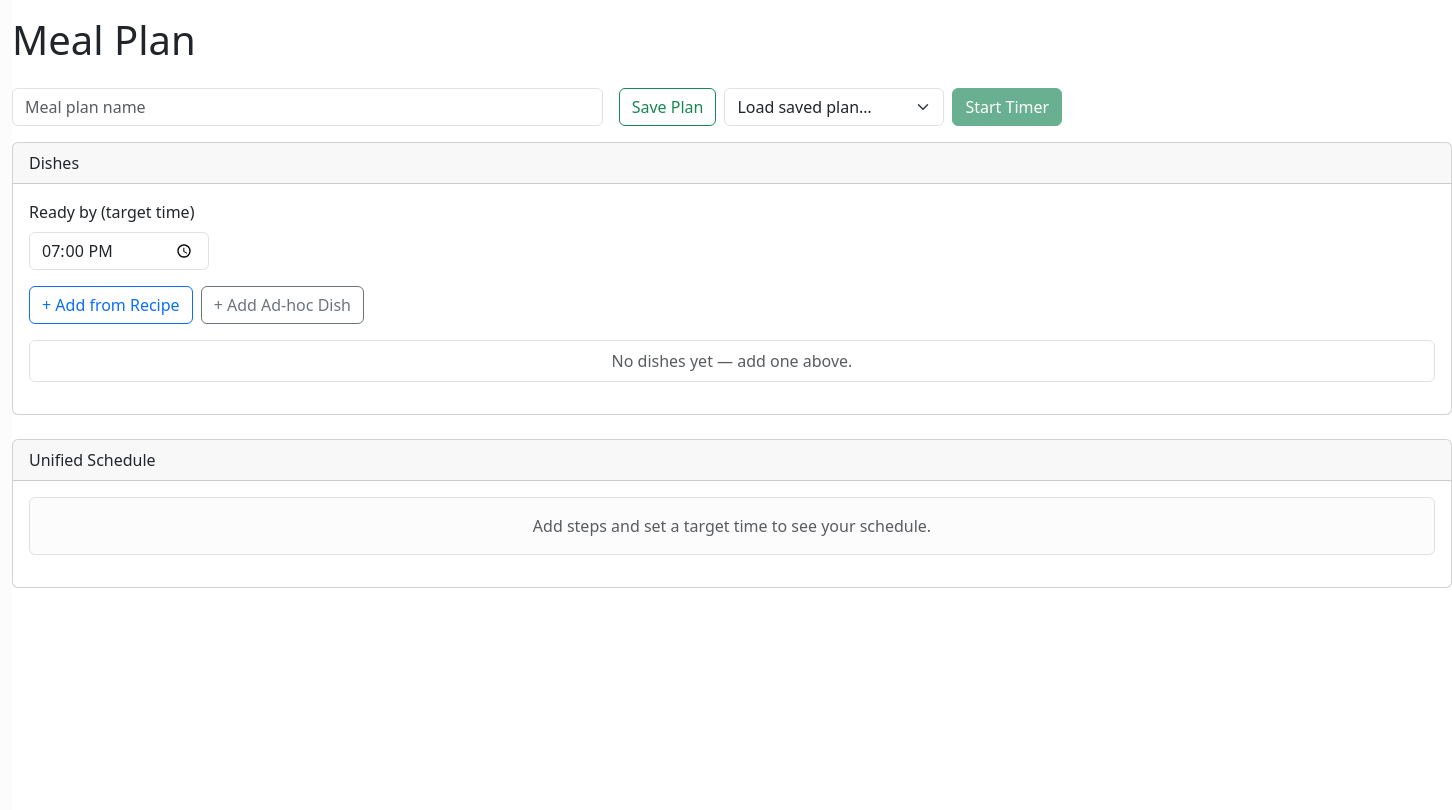
it: MealPlanPage › shows Add Ad-hoc Dish button and adds a dish on click
Click the button "+ Add Ad-hoc Dish" at (282, 305), box x1=201 y1=286 x2=364 y2=324
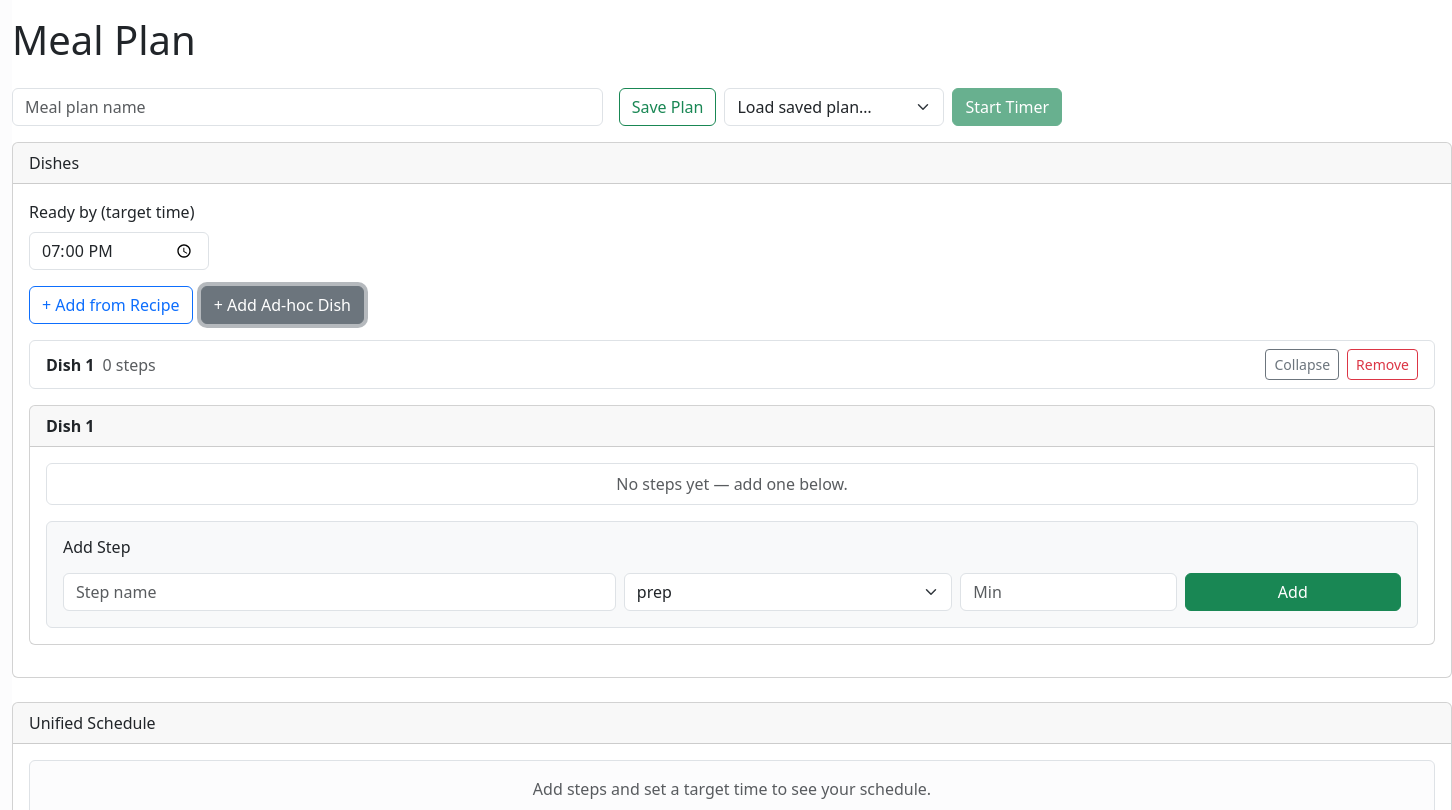
Result: the text "Dish 1" is shown at x1=46 y1=354 x2=94 y2=376
